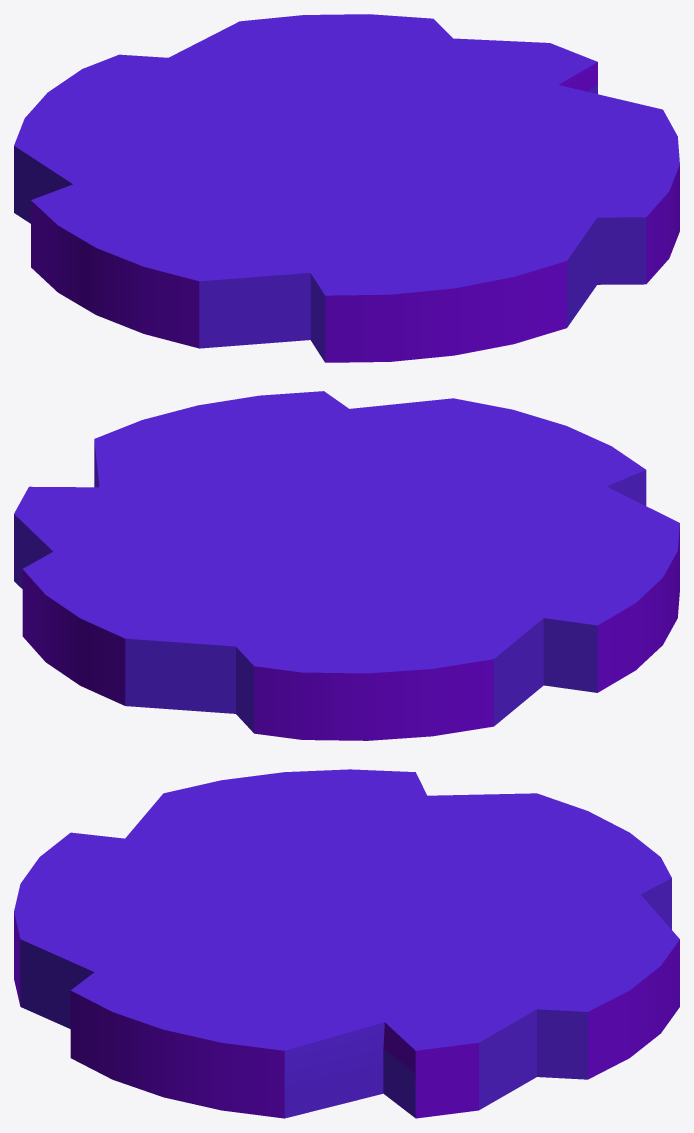
The model's file is middle3.glb.
3 views of the same model, one above another, from view 1: azimuth 30°, elevation 25°; view 2: azimuth 150°, elevation 25°; view 3: azimuth 270°, elevation 25° (orthographic).
Visible parts, largest first — view 1: middle; view 2: middle; view 3: middle.
Boxes of the visible parts, bbox=[...] form: middle: bbox=[14, 14, 679, 362]; middle: bbox=[14, 391, 679, 740]; middle: bbox=[14, 769, 679, 1118].
Size of the model in its own units: 0.3565 by 0.041 by 0.3565.
